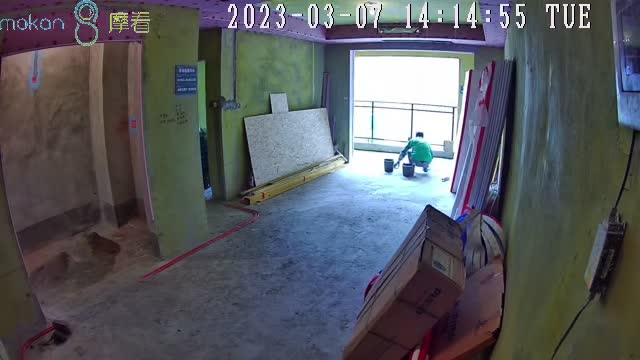people: (394, 132, 432, 172)
window: (352, 55, 457, 145)
